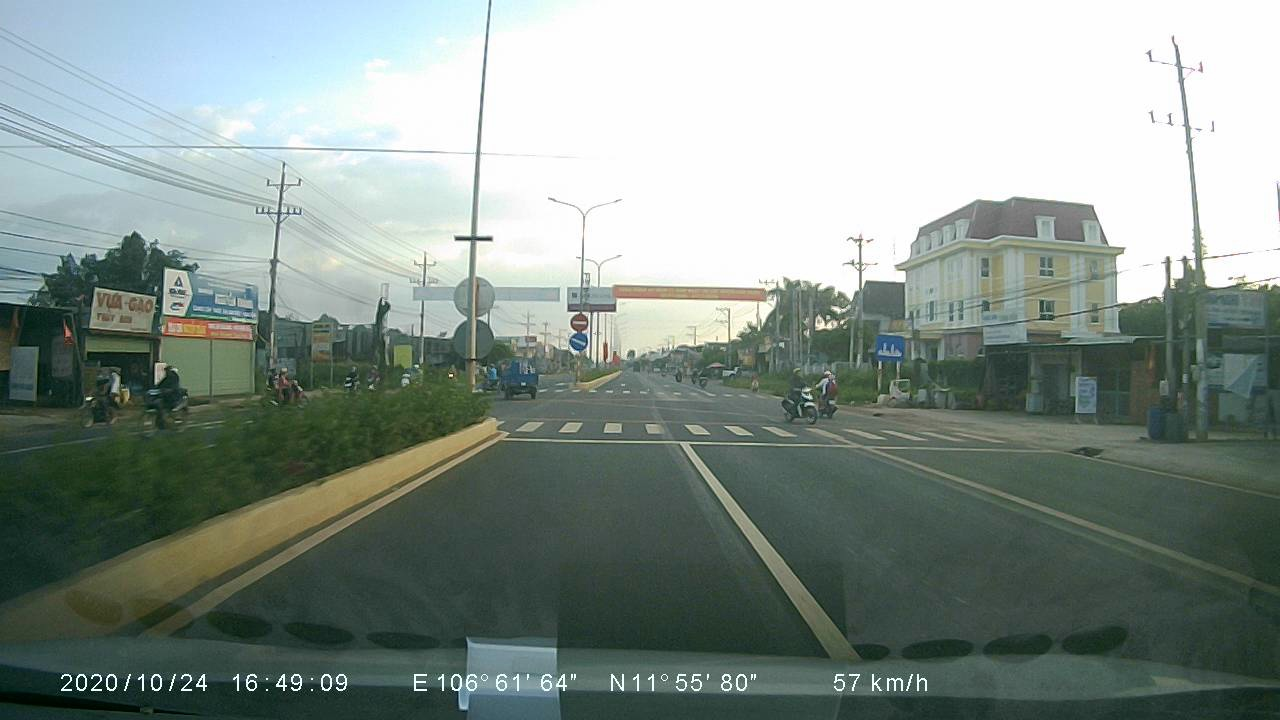Bien khac: (875, 330, 908, 362)
Cam di nguoc chieu: (568, 311, 596, 331)
Huong di phai re phai: (568, 330, 592, 353)
